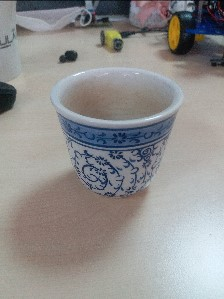cup: (44, 61, 193, 202)
